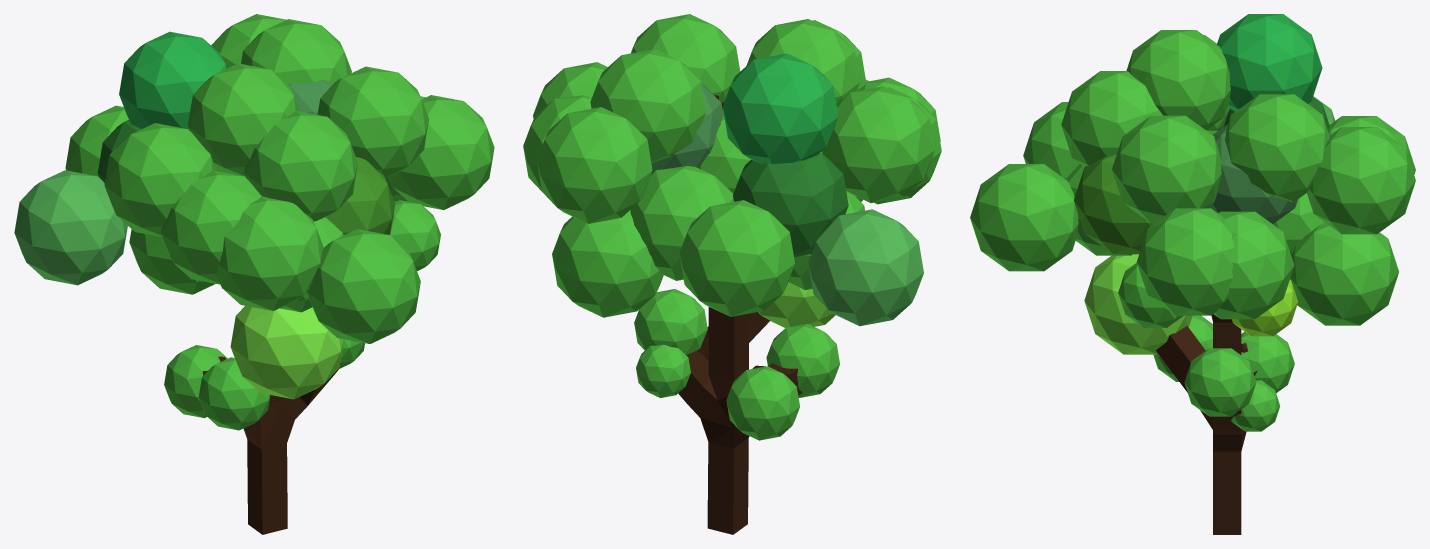
File: fattree.fbx
3 views of the same model, side by side, from view 1: azimuth 30°, elevation 25°; view 2: azimuth 150°, elevation 25°; view 3: azimuth 270°, elevation 25° (orthographic). The views are drawn at different scales.
Visible parts, largest first — view 1: Icosphere.015, Icosphere.025, Icosphere.013, Icosphere.007, Icosphere, Icosphere.027, Icosphere.004, Icosphere.008, Icosphere.010, Icosphere.019, Icosphere.026, Plane (+11 smaller); view 2: Icosphere.023, Icosphere.022, Icosphere.025, Plane, Icosphere.019, Icosphere.027, Icosphere.009, Icosphere.001, Icosphere.002, Icosphere.024, Icosphere, Icosphere.008 (+12 smaller); view 3: Icosphere.015, Icosphere, Icosphere.022, Icosphere.009, Icosphere.010, Icosphere.001, Icosphere.019, Icosphere.008, Icosphere.007, Plane, Icosphere.011, Icosphere.004 (+12 smaller).
Part boxes in pixels (x1,y1,x2,y2): Icosphere.015: (307,229,420,343); Icosphere.025: (14,170,127,285); Icosphere.013: (216,196,323,310); Icosphere.007: (244,111,357,221); Icosphere: (317,66,428,178); Icosphere.027: (104,123,216,236); Icosphere.004: (230,306,343,399); Icosphere.008: (187,63,299,176); Icosphere.010: (388,95,494,209); Icosphere.019: (119,31,226,130); Icosphere.026: (161,170,261,284); Plane: (202,356,338,534); Icosphere.023: (679,200,794,316); Icosphere.022: (537,107,652,223); Icosphere.025: (808,209,923,326); Plane: (678,95,802,534); Icosphere.019: (722,53,838,163); Icosphere.027: (821,86,934,202); Icosphere.009: (552,210,663,317); Icosphere.001: (590,49,705,162); Icosphere.002: (733,153,848,256); Icosphere.024: (630,166,733,280); Icosphere: (631,14,740,103); Icosphere.008: (746,19,859,106); Icosphere.015: (970,164,1078,271); Icosphere: (1112,115,1221,223); Icosphere.022: (1307,127,1415,234); Icosphere.009: (1290,222,1398,325); Icosphere.010: (1137,208,1234,315); Icosphere.001: (1225,94,1329,201); Icosphere.019: (1217,14,1322,111); Icosphere.008: (1126,30,1230,129); Icosphere.007: (1061,71,1162,166); Plane: (1156,314,1257,534); Icosphere.011: (1213,211,1294,319); Icosphere.004: (1084,254,1192,354).
Size of the model in its own units: 821 by 933 by 788.
